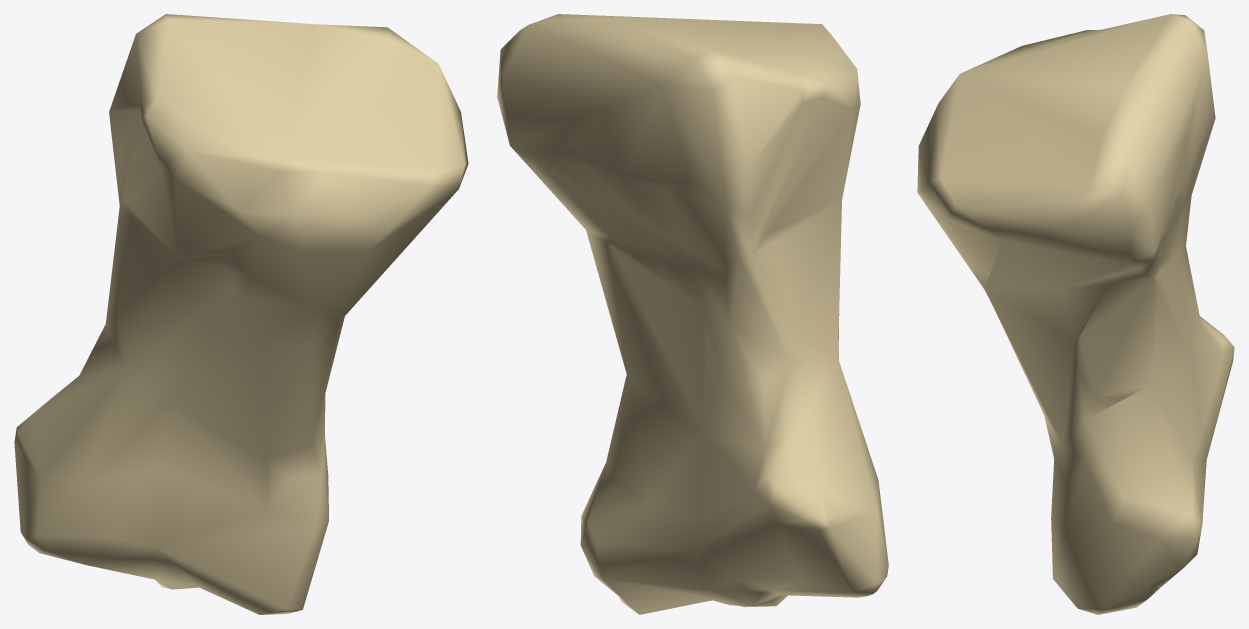
The picture shows the model from 3 angles, left to right: view 1: azimuth 30°, elevation 25°; view 2: azimuth 150°, elevation 25°; view 3: azimuth 270°, elevation 25°; orthographic projection. The views are drawn at different scales.
Parts seen in each view (by area): view 1: 右侧第二趾中节趾骨; view 2: 右侧第二趾中节趾骨; view 3: 右侧第二趾中节趾骨.
Boxes of the visible parts, x1=… form: 右侧第二趾中节趾骨: x1=14, y1=14, x2=468, y2=614; 右侧第二趾中节趾骨: x1=497, y1=14, x2=888, y2=614; 右侧第二趾中节趾骨: x1=917, y1=14, x2=1234, y2=614.
Bounding box in the file's own units: 0.0182 × 0.026 × 0.0134.
